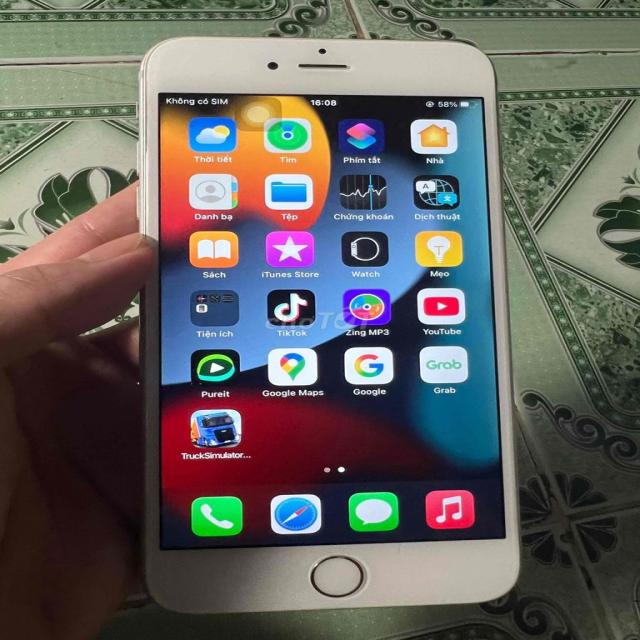gen_6: (138, 38, 518, 612)
